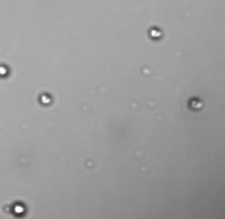Dead Cell: (189, 95, 203, 110)
Living Cell: (12, 201, 27, 216), (148, 26, 163, 39), (40, 92, 52, 105), (1, 64, 8, 78)
